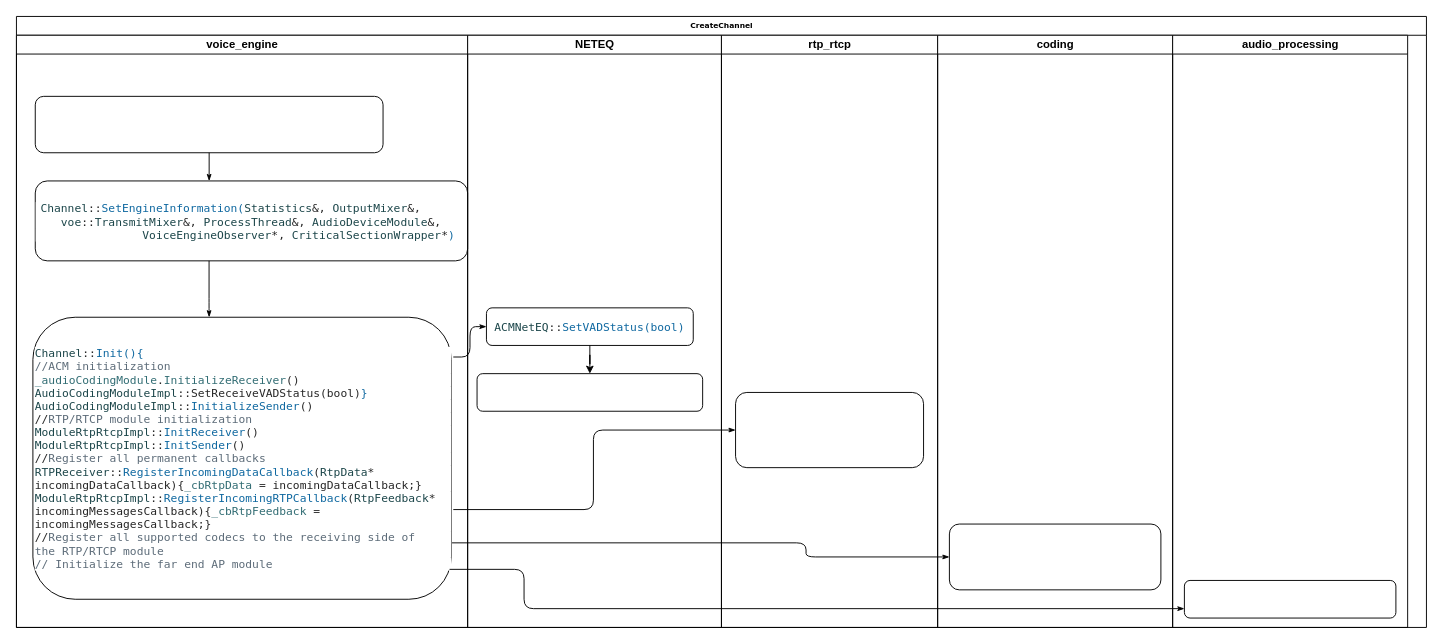
Some shapes in this 1443 by 644 pixel diagram are drawn without their labels. Each missing label, with the centre of its shape:
"ACMNetEQ :: EnableVADByIdxSafe(idx)" goes at [589,392].
"AudioCodingModule :: Codec { ACMCodecDB :: initACMCodecDB (); }" goes at [1054,556].
"RTPReceiver :: Init (){ Bitrate :: Init () RTPReceiverAudio :: Init () }" goes at [829,430].
"VoEBaseImpl :: CreateChannel" goes at [208,124].
